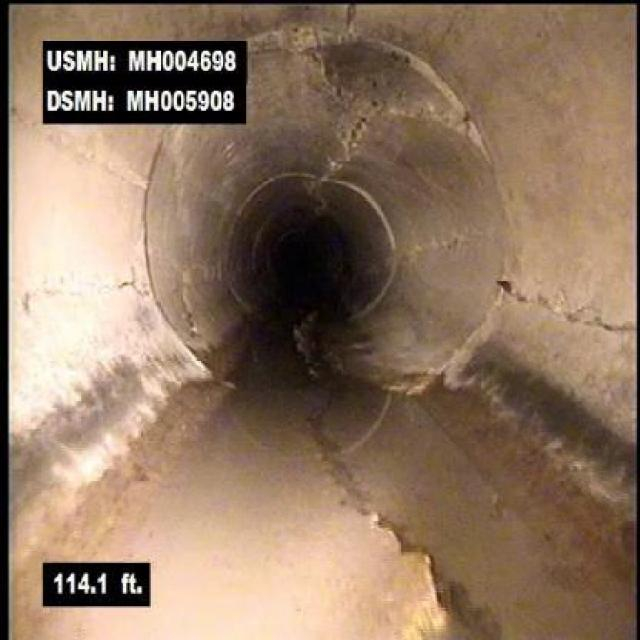Crack: (310, 412, 498, 636), (489, 256, 617, 350), (28, 251, 148, 335), (434, 65, 501, 180), (282, 8, 349, 97)
